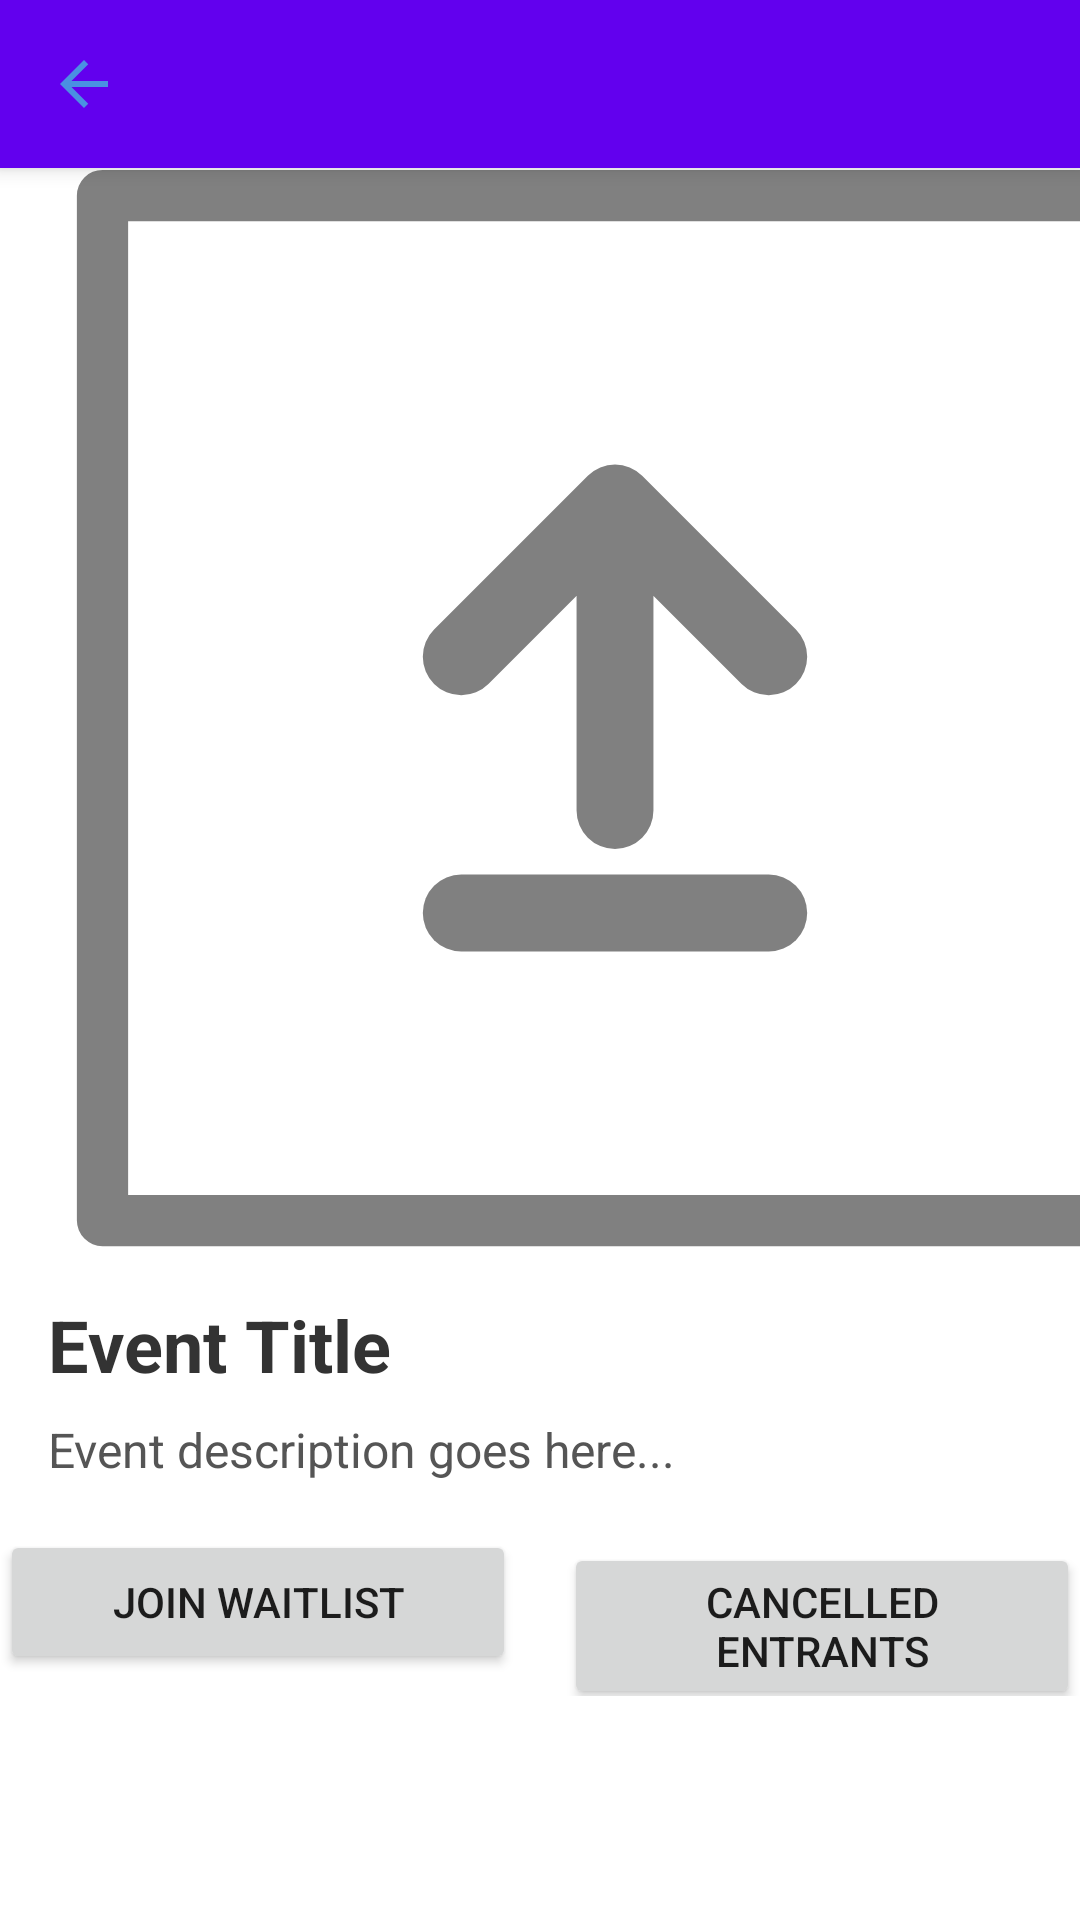

Where to tap for icons on this 1080 x 1920 app screen, as [x,y]:
Back button: [84,84]
